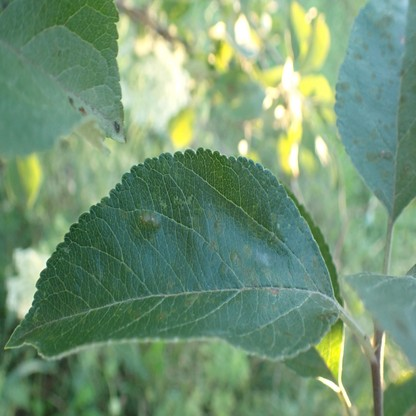scab: (24, 196, 338, 341), (338, 13, 416, 200)
